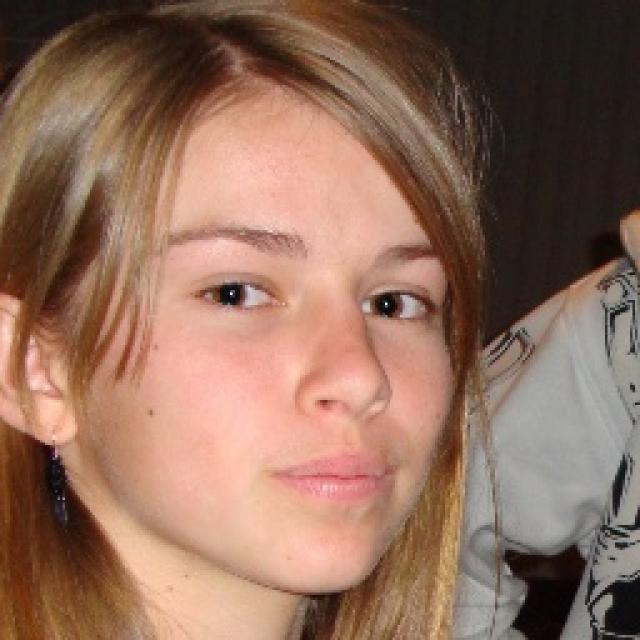earlobe: (23, 392, 77, 447)
eye: (188, 279, 288, 312), (364, 290, 439, 322)
nose: (302, 394, 391, 444)
wholeear: (0, 292, 78, 446)
